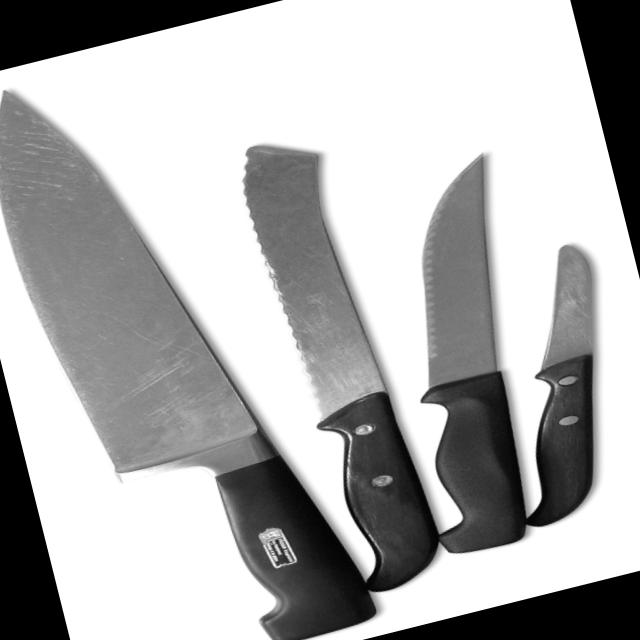Weapon: (0, 23, 389, 640), (218, 113, 466, 599), (339, 138, 602, 566), (458, 221, 640, 551)
